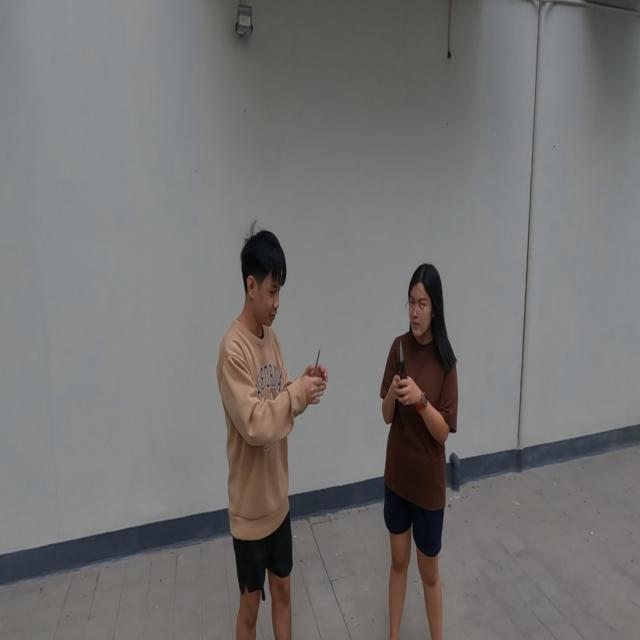scissor: (399, 340, 408, 400)
